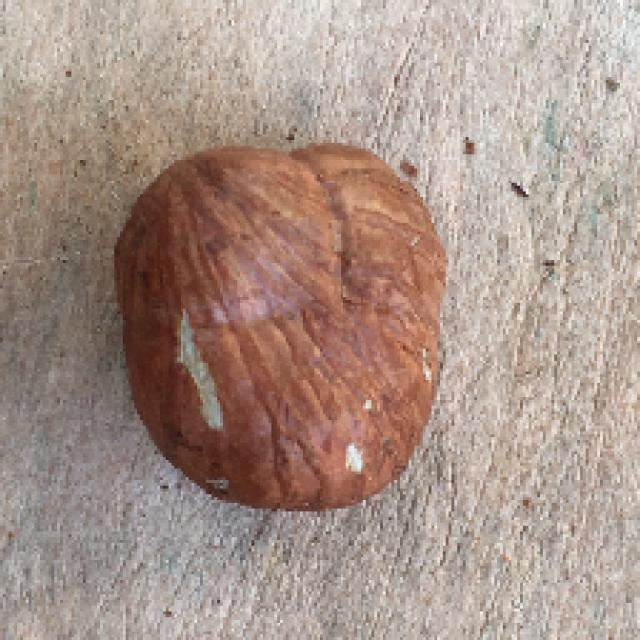hazelnut: (112, 126, 461, 531)
